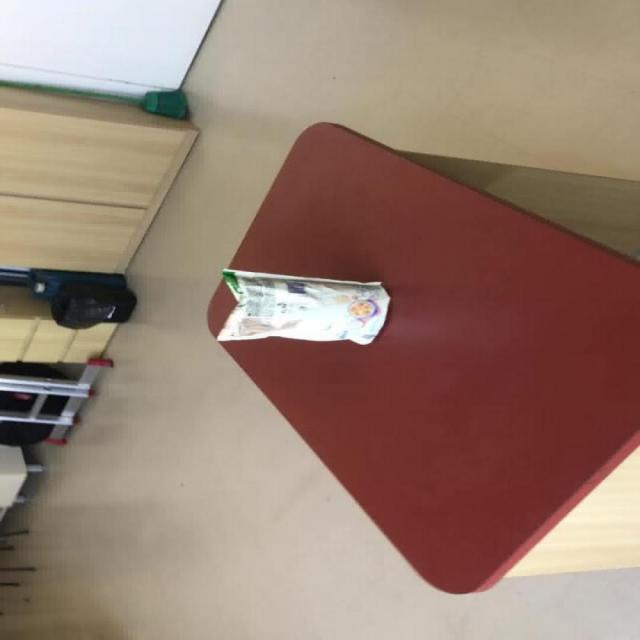CornFlakes: (215, 268, 390, 345)
